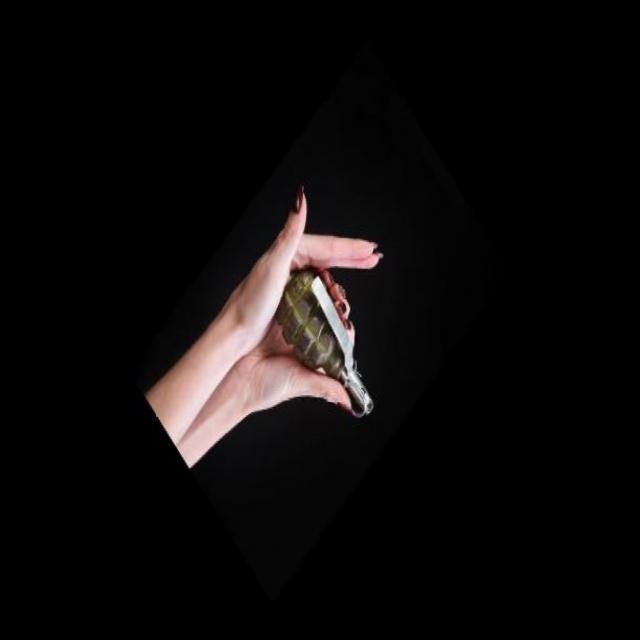grenade: (258, 259, 378, 426)
